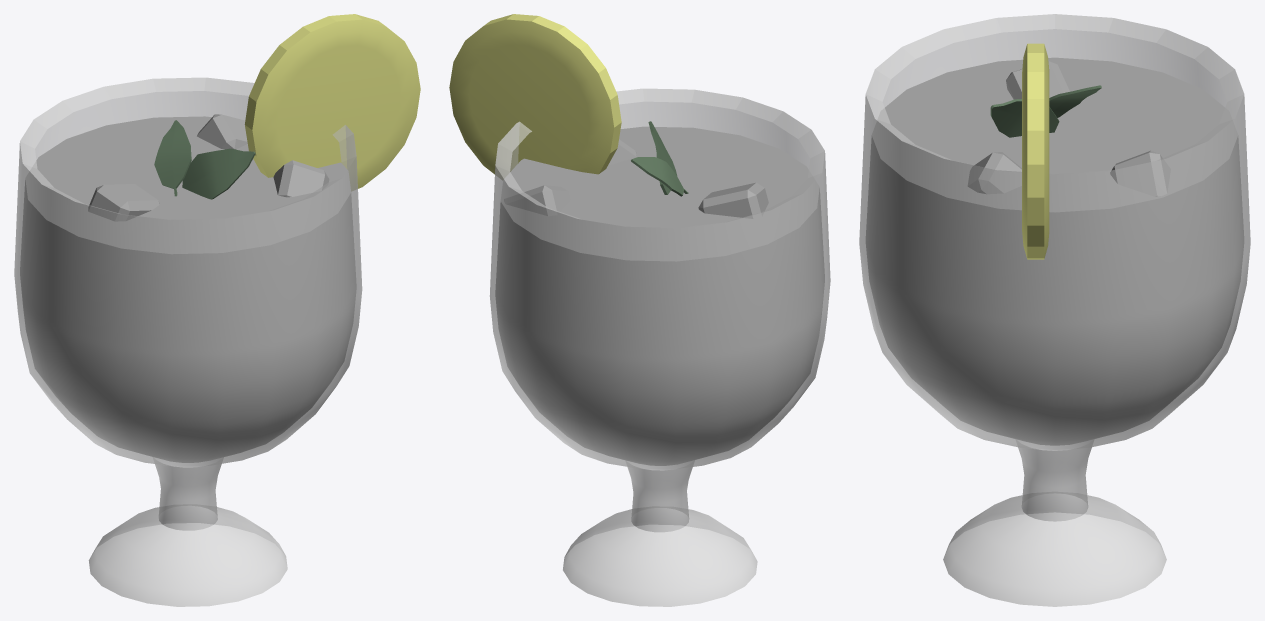
The model's file is LemonJuice.fbx.
3 views of the same model, side by side, from view 1: azimuth 30°, elevation 25°; view 2: azimuth 150°, elevation 25°; view 3: azimuth 270°, elevation 25° (orthographic). The views are drawn at different scales.
Visible parts, largest first — view 1: pCylinder2, pCylinder1, pCylinder3, polySurface1, pCube2, polySurface2, pCube3, pCube4; view 2: pCylinder2, pCylinder1, pCylinder3, pCube2, pCube4, polySurface2; view 3: pCylinder2, pCylinder1, pCylinder3, pCube4, pCube3, polySurface1, pCube2, polySurface2.
Boxes of the visible parts, x1,y1,x2,y2 form: pCylinder2: (14, 77, 362, 606); pCylinder1: (20, 116, 356, 462); pCylinder3: (244, 14, 420, 190); polySurface1: (182, 148, 255, 199); pCube2: (88, 184, 159, 221); polySurface2: (154, 120, 191, 196); pCube3: (273, 160, 329, 197); pCube4: (197, 114, 247, 149); pCylinder2: (489, 88, 830, 606); pCylinder1: (495, 126, 824, 465); pCylinder3: (449, 14, 621, 179); pCube2: (698, 182, 768, 218); pCube4: (504, 185, 570, 215); polySurface2: (631, 157, 688, 196); pCylinder2: (859, 14, 1250, 606); pCylinder1: (866, 57, 1243, 445); pCylinder3: (1022, 43, 1049, 259); pCube4: (1110, 150, 1170, 196); pCube3: (968, 152, 1021, 193); polySurface1: (990, 99, 1059, 137); pCube2: (1006, 61, 1069, 99); polySurface2: (1049, 85, 1101, 117).
Size of the model in its own units: 1.95 by 2.61 by 1.59.
